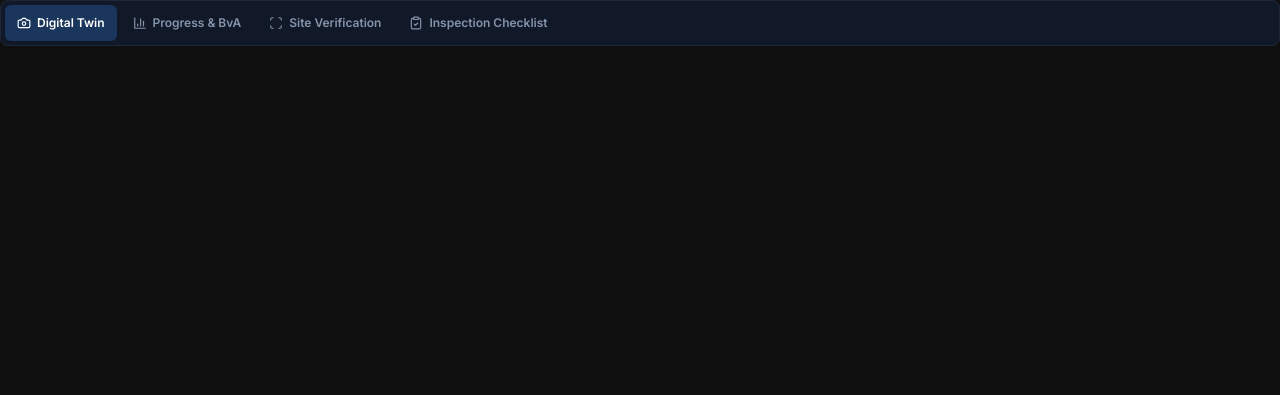
it: P3DigitalTwinStage › switches to checklist tab
The width and height of the screenshot is (1280, 395).
Click the button "Inspection Checklist".
click(478, 23)  # box [397,5,560,40]
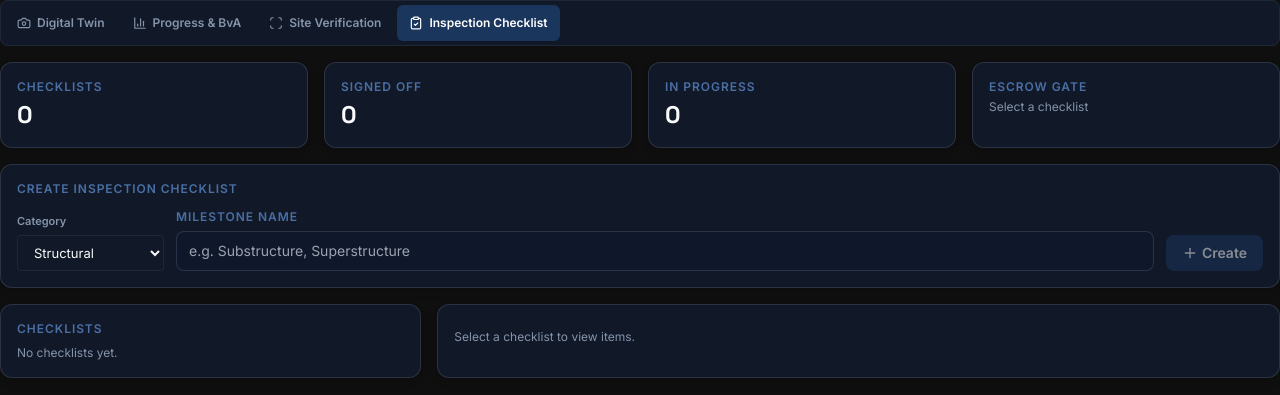
Expected: the text "Create Inspection Checklist" is shown, [17,180,238,196]
